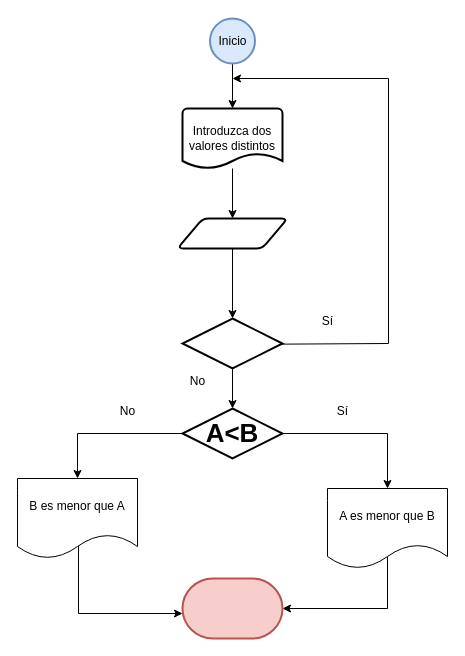
The diagram is 465 pixels wide and 656 high, and some of its shapes have lost their labels. The shapes that lost their labels are listed below. From the top down, each one's box as (x1, y1, x2, y2) in pixels, then its label:
(176, 217, 288, 249): A, B
(181, 317, 283, 369): A=B
(181, 577, 283, 639): Fin
